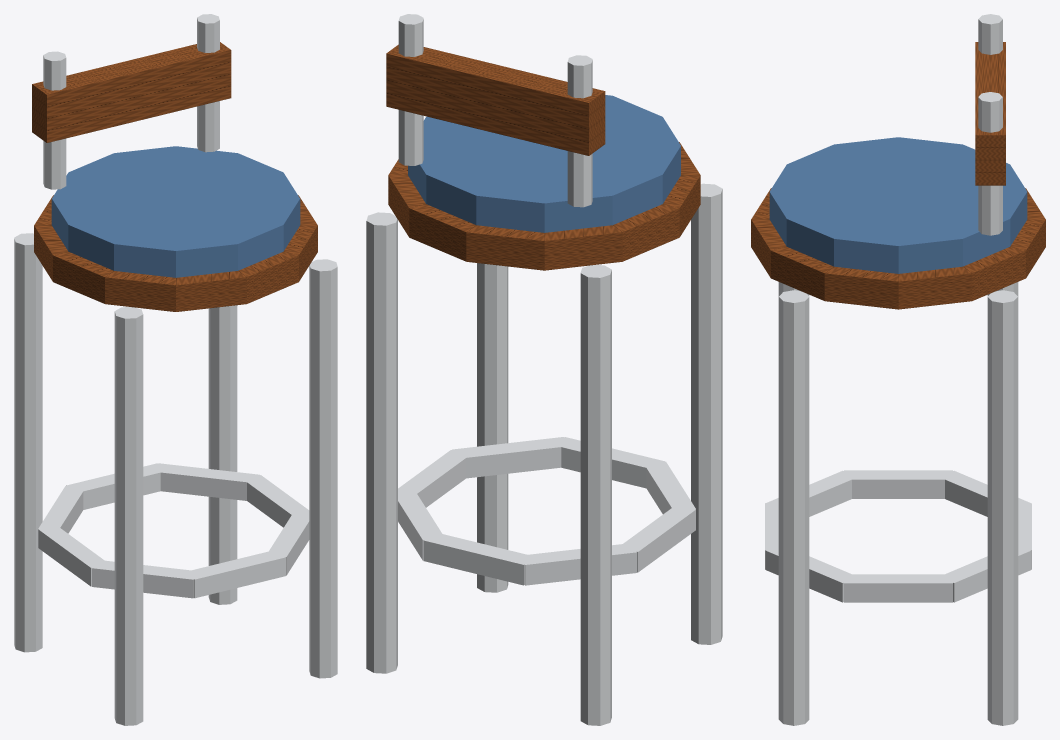
Rendered from cruise-ship-deck-and-lounge-cruise-ship-deck-and-loung-929a747e__38443.glb.
3 views of the same model, side by side, from view 1: azimuth 30°, elevation 25°; view 2: azimuth 150°, elevation 25°; view 3: azimuth 270°, elevation 25° (orthographic). The views are drawn at different scales.
Visible parts, largest first — view 1: cruise-ship-deck-and-lounge-bar-stool; view 2: cruise-ship-deck-and-lounge-bar-stool; view 3: cruise-ship-deck-and-lounge-bar-stool.
Boxes of the visible parts, <box> form: cruise-ship-deck-and-lounge-bar-stool: <box>14,14,337,725</box>; cruise-ship-deck-and-lounge-bar-stool: <box>366,14,722,725</box>; cruise-ship-deck-and-lounge-bar-stool: <box>751,14,1045,725</box>.
Bounding box in the file's own units: 0.48 × 1.1 × 0.48.
Materials: 3 (1 with a texture image).
